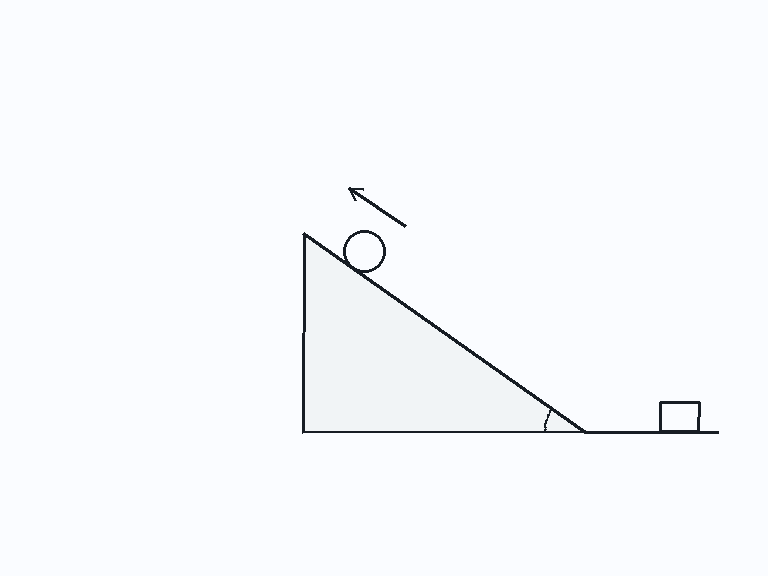ball: (341, 228, 387, 274)
block: (657, 400, 701, 433)
ramp: (301, 232, 587, 433)
